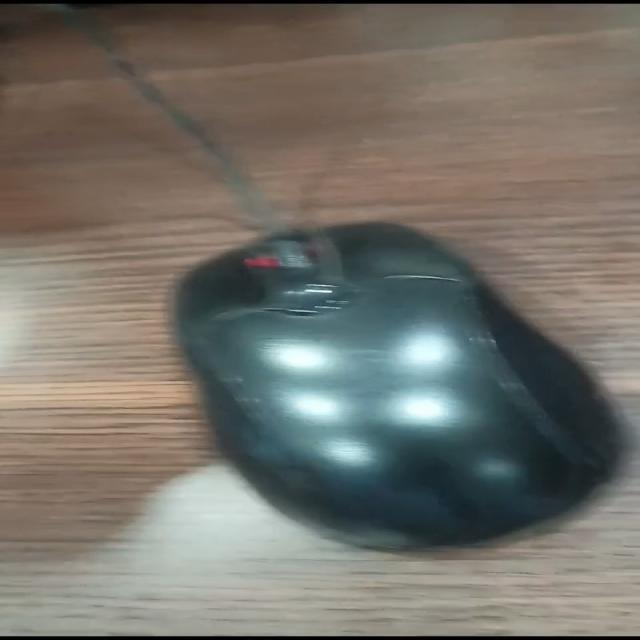Mouse: (99, 196, 640, 580)
